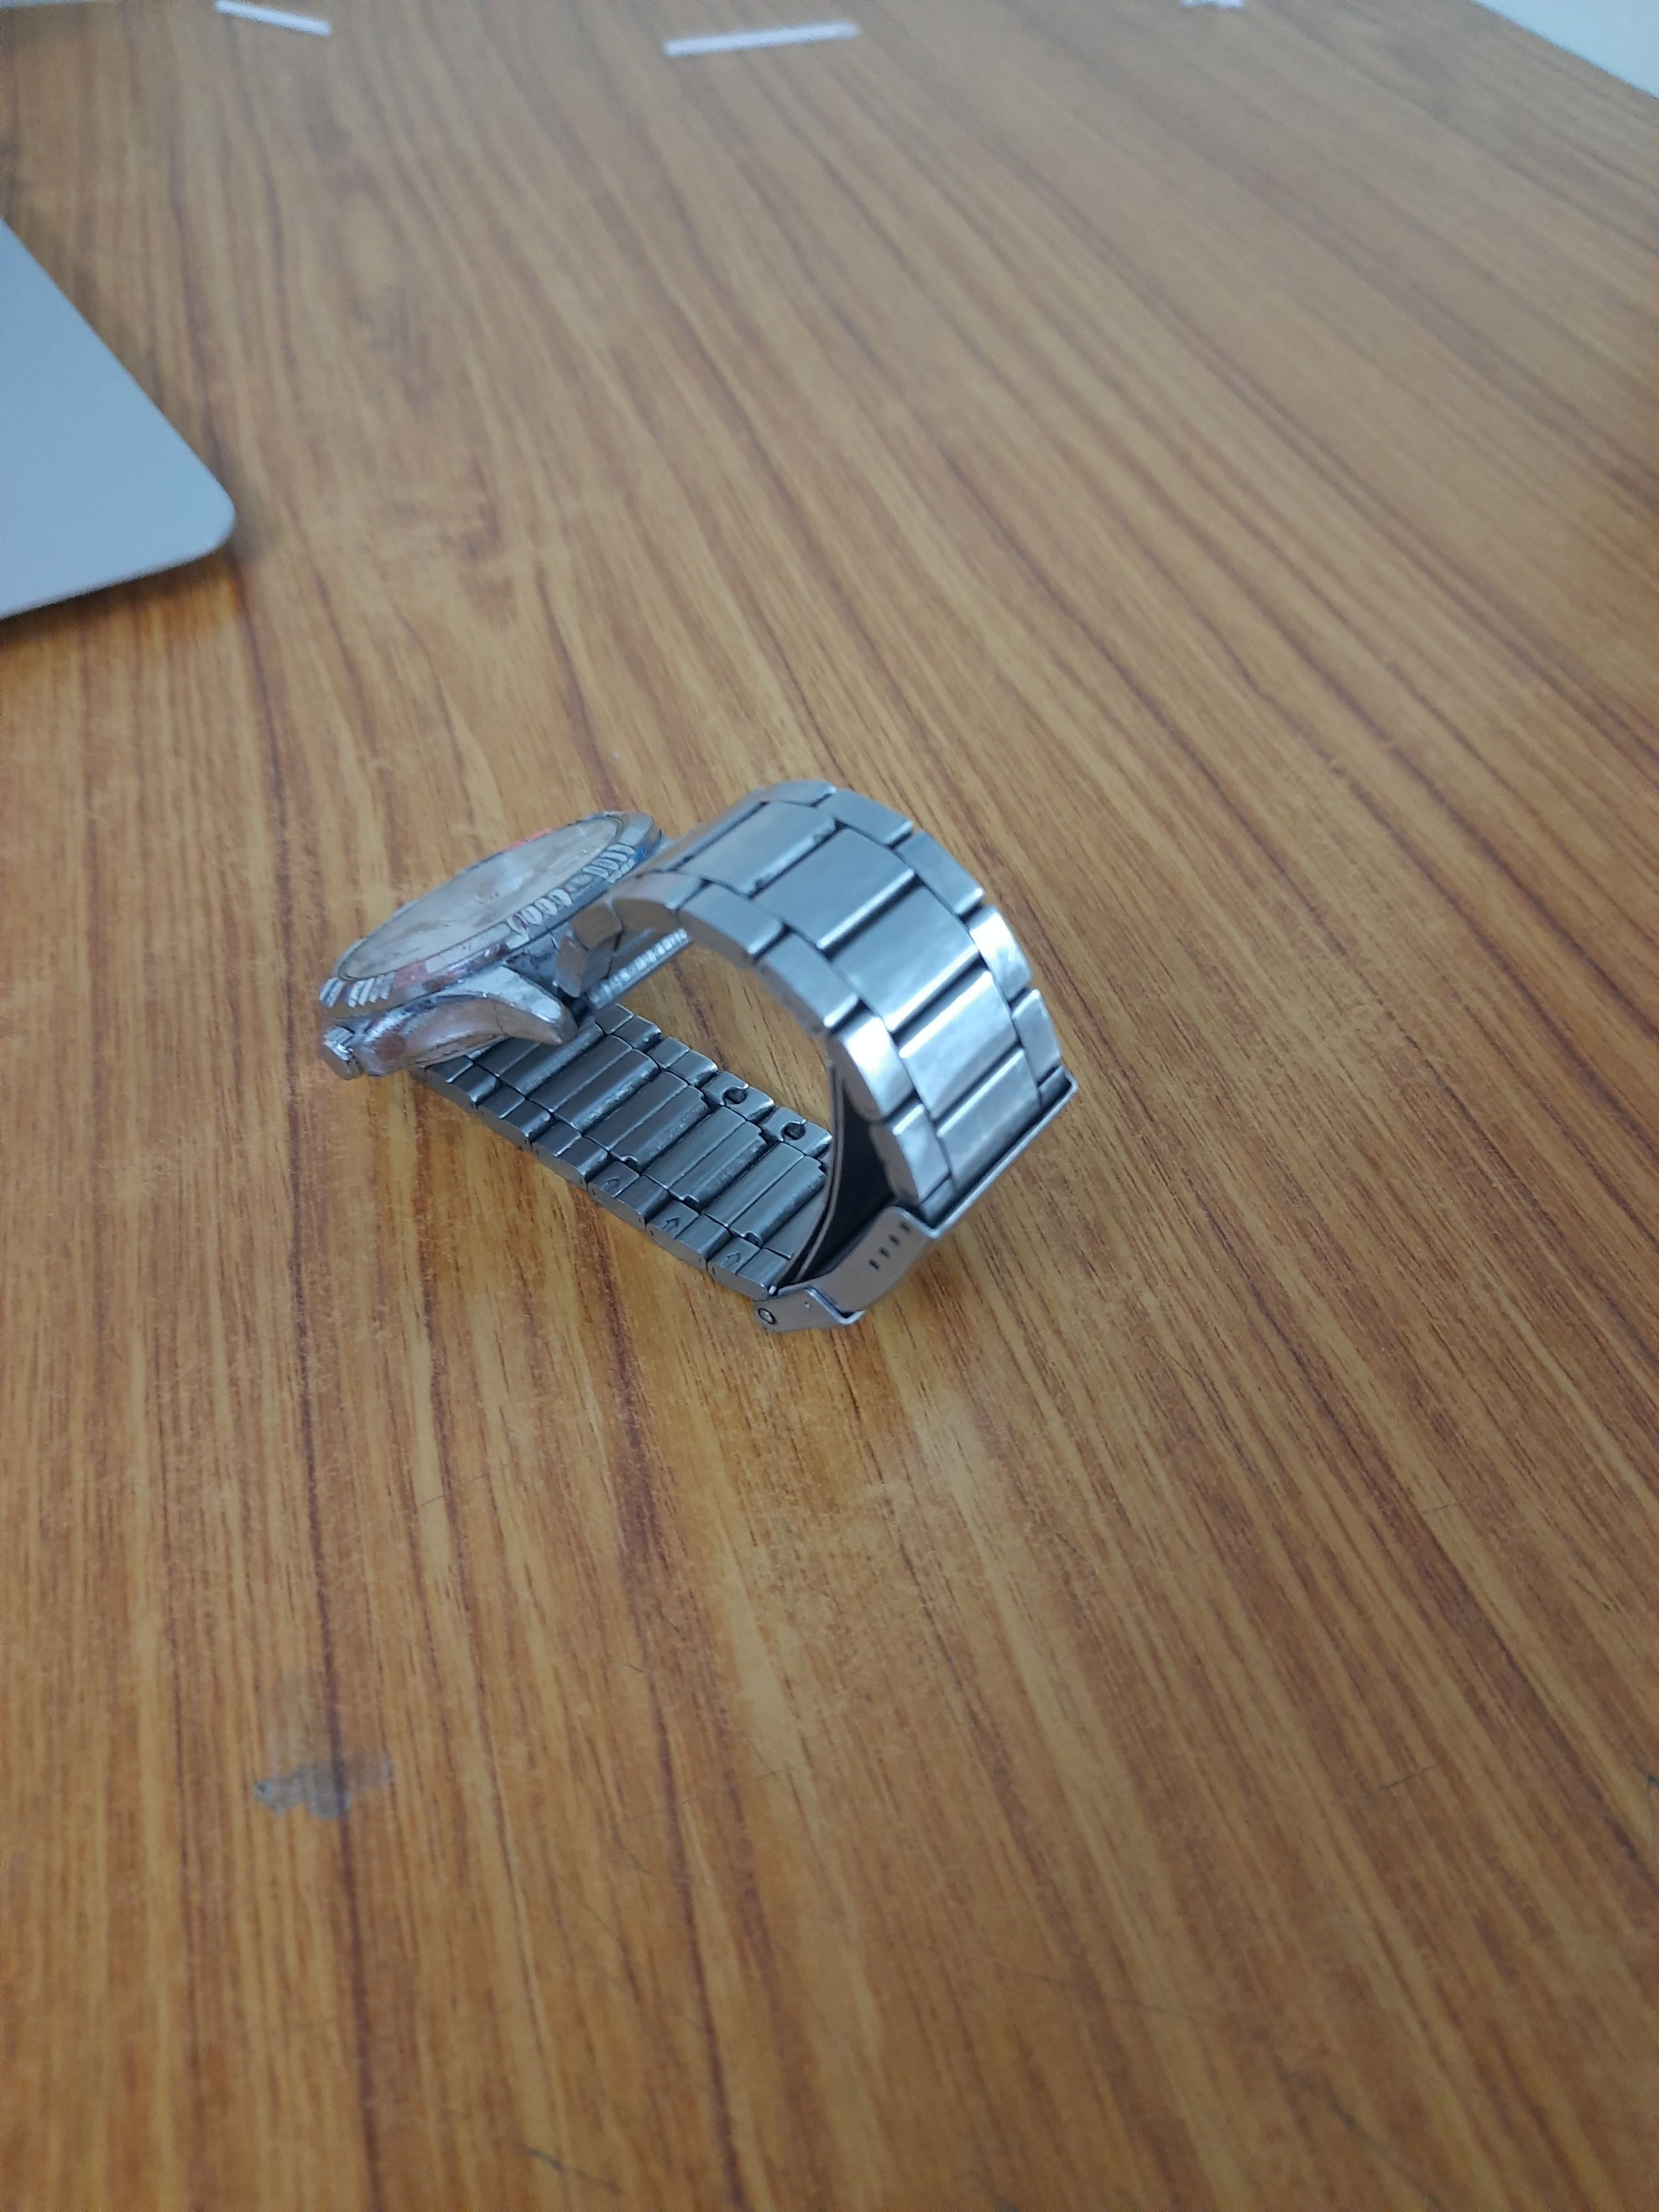Vikash's Watch: (286, 768, 1112, 1350)
